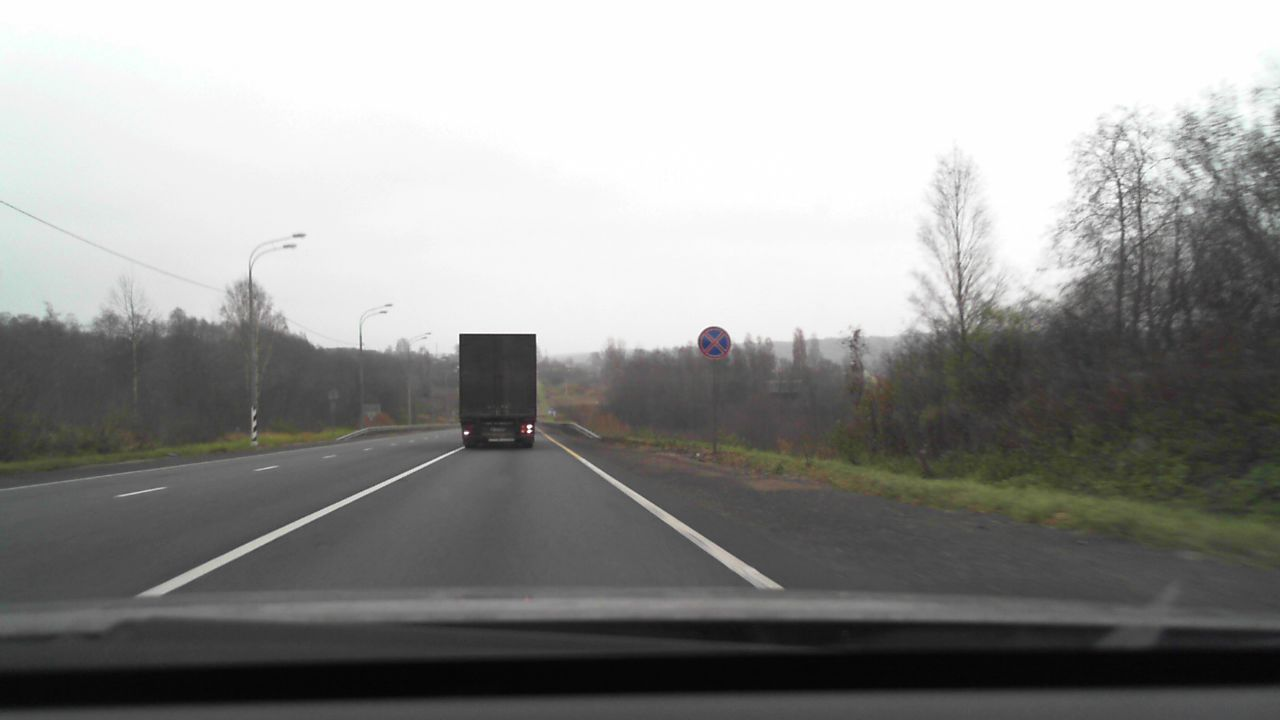No Parking: (697, 326, 731, 360)
